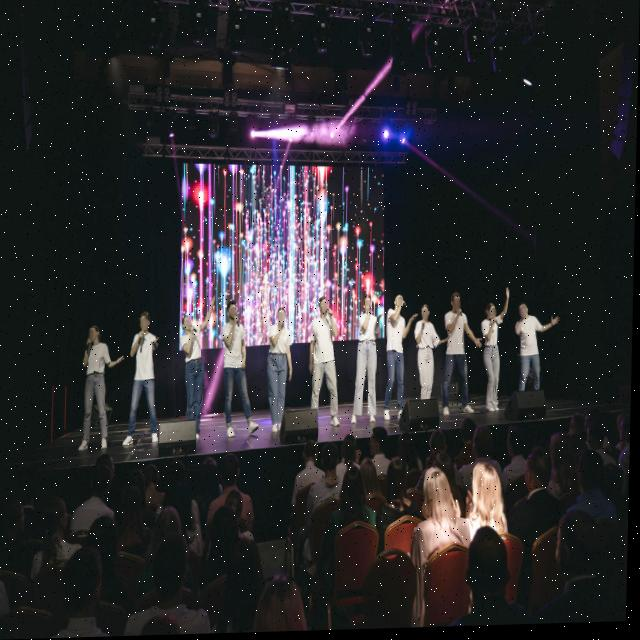Person: (546, 507, 619, 627), (71, 323, 120, 465), (463, 526, 529, 629), (219, 296, 264, 442), (306, 296, 349, 440), (124, 310, 165, 459), (56, 534, 110, 638), (143, 535, 198, 636), (200, 506, 266, 584), (178, 305, 215, 444), (517, 292, 564, 397), (443, 293, 477, 427), (382, 291, 414, 431), (414, 467, 459, 566), (353, 290, 384, 432), (481, 288, 512, 420), (42, 486, 85, 580), (265, 308, 296, 434), (521, 449, 563, 532), (149, 500, 183, 601), (475, 455, 509, 546), (339, 469, 381, 539), (0, 486, 35, 569), (417, 299, 442, 409), (298, 431, 332, 504), (382, 457, 417, 525), (116, 491, 149, 563), (548, 429, 574, 517), (576, 455, 606, 521), (605, 464, 632, 534), (123, 465, 160, 516), (164, 463, 197, 514), (320, 443, 342, 516), (95, 462, 120, 525), (504, 424, 531, 481), (224, 450, 253, 503), (588, 422, 615, 476), (202, 455, 228, 509), (366, 421, 389, 480), (473, 424, 495, 473), (343, 436, 365, 478), (582, 410, 607, 442), (430, 426, 448, 470), (622, 418, 632, 471)
